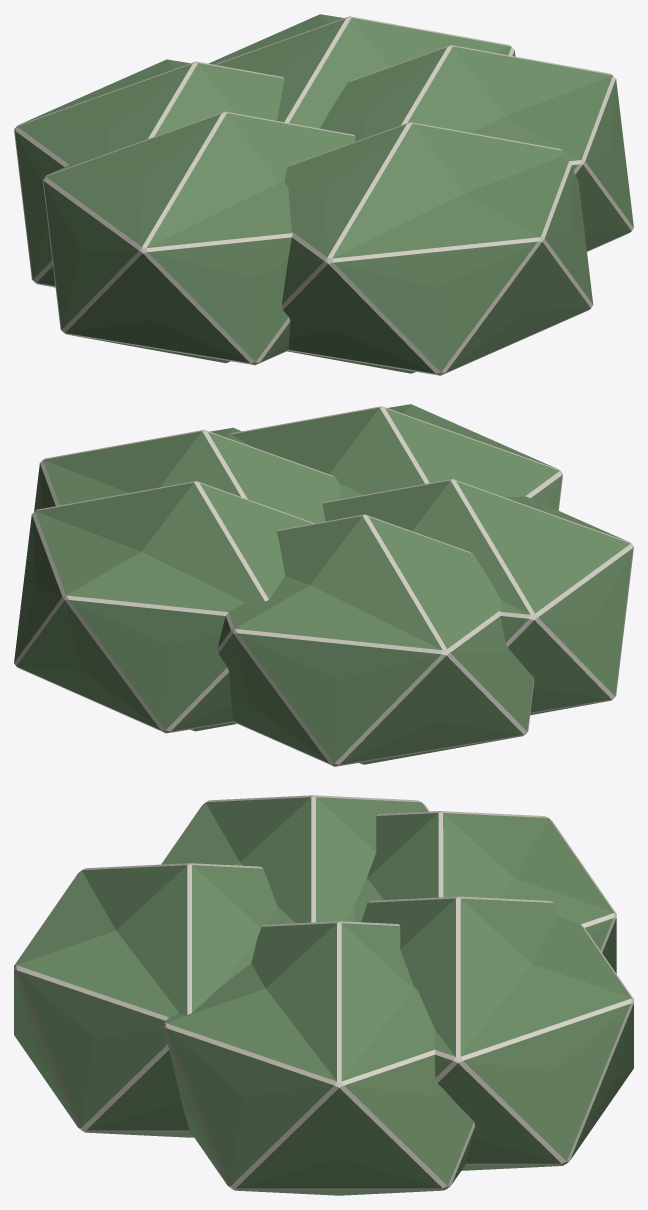
Rendered from foliage_shrub_round.glb.
The picture shows the model from 3 angles, top to bottom: view 1: azimuth 30°, elevation 25°; view 2: azimuth 150°, elevation 25°; view 3: azimuth 270°, elevation 25°; orthographic projection. The views are drawn at different scales.
Parts seen in each view (by area): view 1: scenery_leaf; view 2: scenery_leaf; view 3: scenery_leaf.
Boxes of the visible parts, bbox=[...] form: scenery_leaf: bbox=[14, 14, 633, 375]; scenery_leaf: bbox=[14, 404, 633, 766]; scenery_leaf: bbox=[14, 795, 633, 1195].
Bounding box in the file's own units: 3.08 × 1.3 × 2.69.
